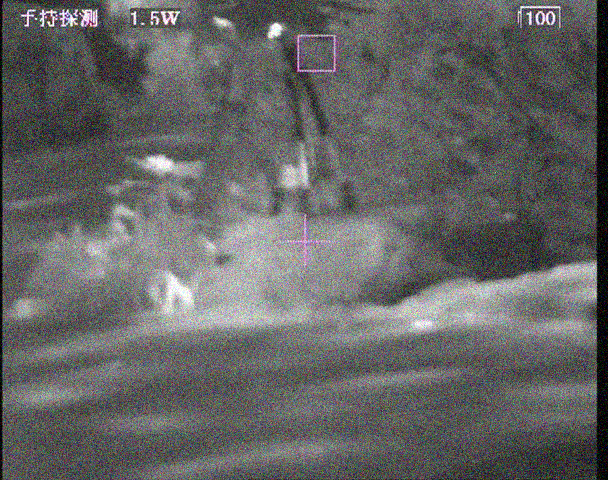my: (267, 22, 283, 40)
